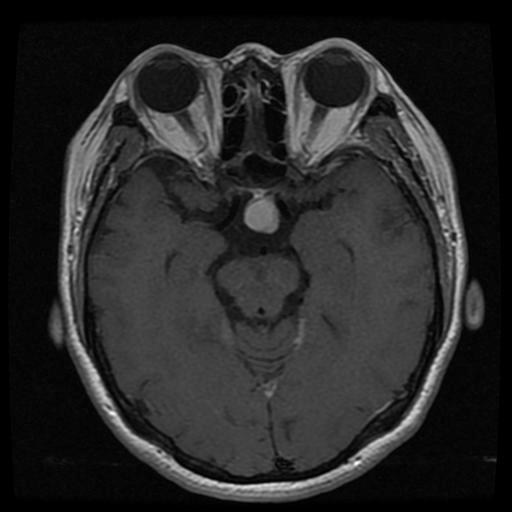Tumour-Pituitary: (244, 194, 282, 238)
